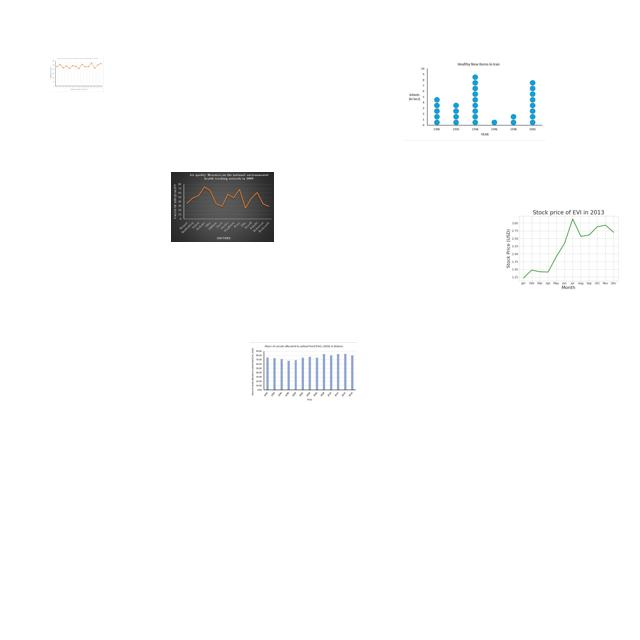Graph: (503, 200, 631, 296), (404, 58, 546, 141), (171, 172, 274, 242), (250, 342, 357, 402), (49, 57, 104, 92)
